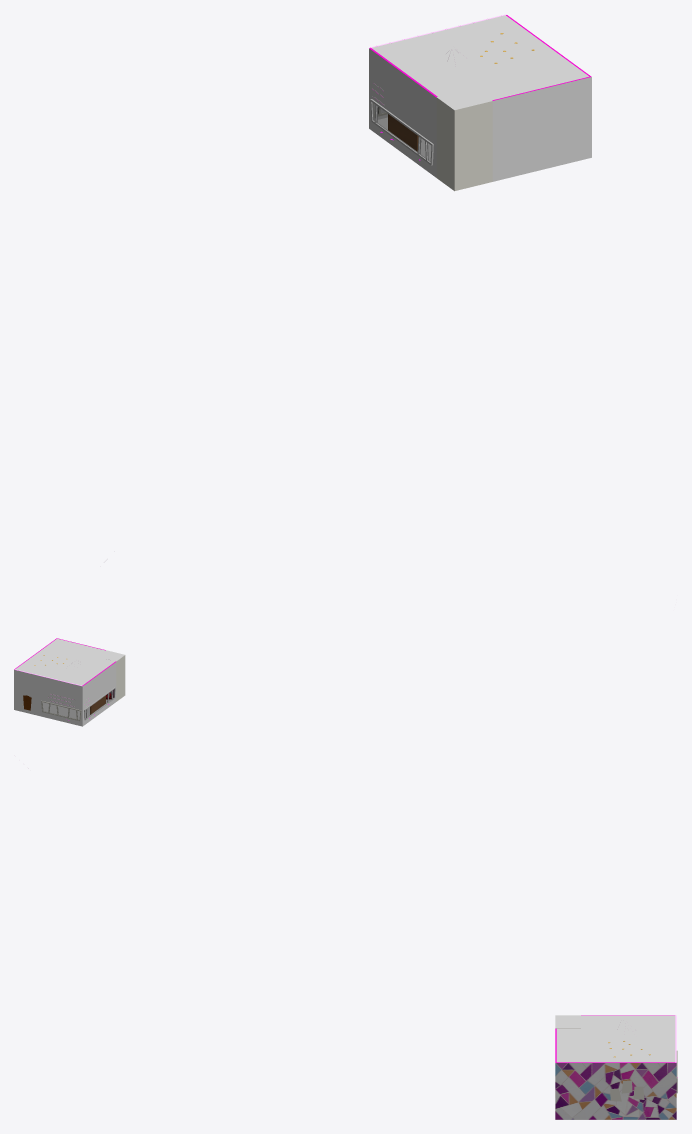
Rendered from environment_mobile.glb.
3 renders of one model, top to bottom at view 1: azimuth 30°, elevation 25°; view 2: azimuth 150°, elevation 25°; view 3: azimuth 270°, elevation 25°, orthographic. The views are drawn at different scales.
Parts seen in each view (by area): view 1: Foundament_Home_, soffitto, Pillar_Mesh_; view 2: Foundament_Home_, soffitto, Pillar_Mesh_, Edges_Windows_Mesh_01_, Edges_Window_Mesh_02_; view 3: Wall_Mosaic_, soffitto.
Boxes of the visible parts, x1,y1,x2,y2 form: Foundament_Home_: [369, 48, 591, 181]; soffitto: [371, 15, 588, 100]; Pillar_Mesh_: [436, 97, 492, 191]; Foundament_Home_: [14, 650, 124, 726]; soffitto: [15, 638, 115, 685]; Pillar_Mesh_: [110, 655, 125, 701]; Edges_Windows_Mesh_01_: [41, 700, 81, 721]; Edges_Window_Mesh_02_: [84, 687, 115, 720]; Wall_Mosaic_: [555, 1063, 676, 1119]; soffitto: [556, 1015, 675, 1062].
Size of the model in its own units: 48.36 by 5.15 by 45.56.
129 materials, 79 textured.
